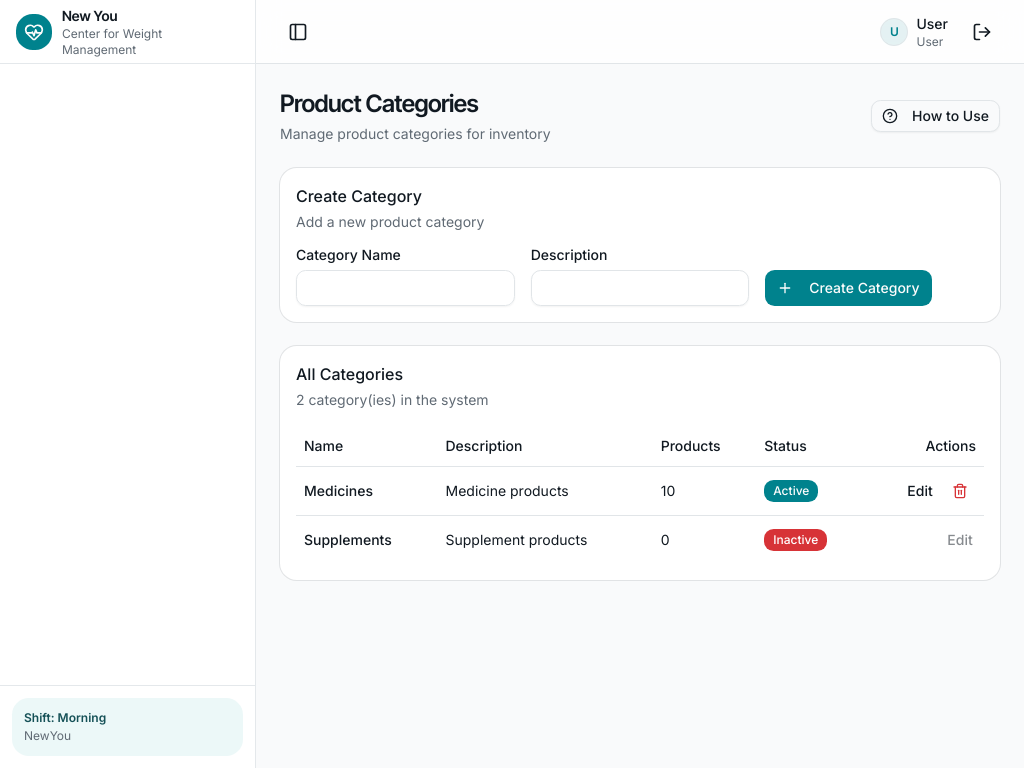
Test: Product Categories Page UI › shows confirm dialog when delete is clicked
Expected: the text "Medicines" is shown, [296, 466, 438, 515]
Click the 6th button at [960, 490], box [944, 474, 976, 506]
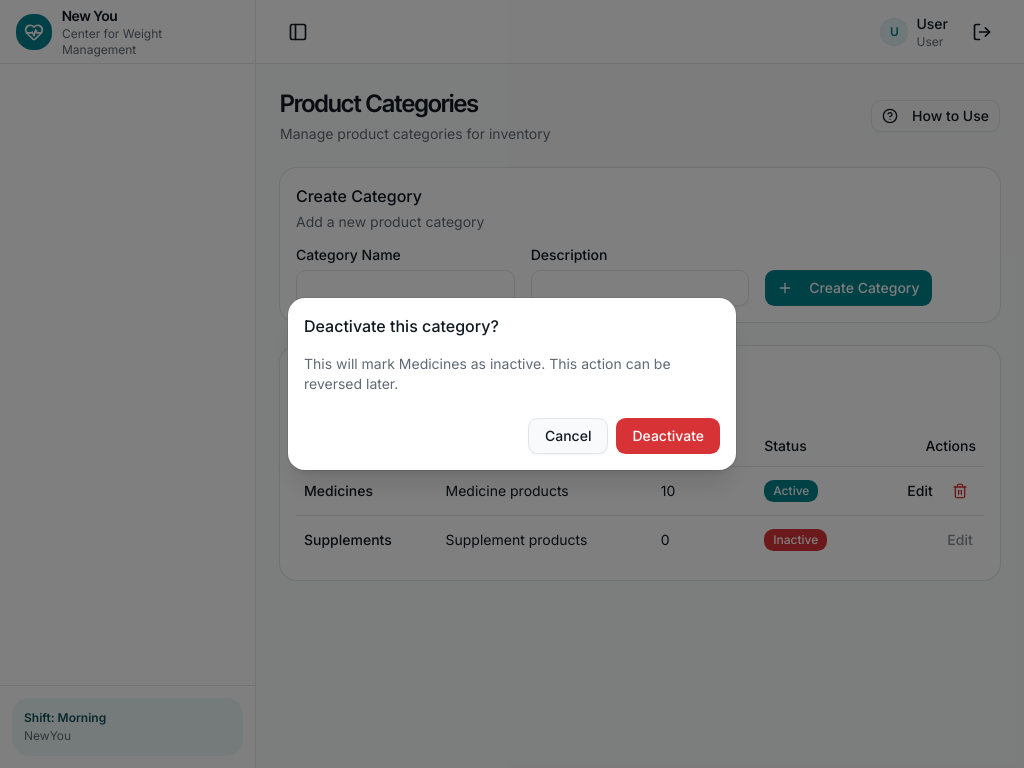
Now the text "Deactivate this category?" is shown, box [304, 316, 499, 336]
Now the text "This will mark Medicines as inactive" is shown, box [304, 355, 671, 392]
